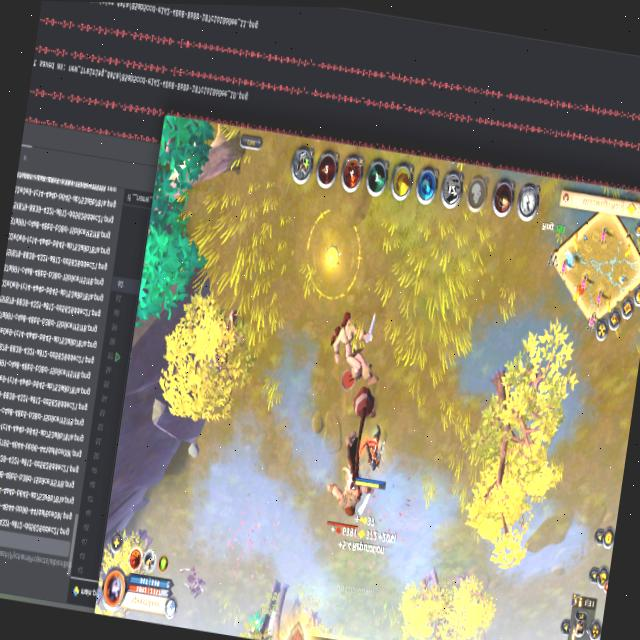hide: (247, 601, 273, 636)
ore: (317, 433, 386, 538)
red: (349, 418, 399, 497)
wisp caged: (134, 114, 250, 346)
